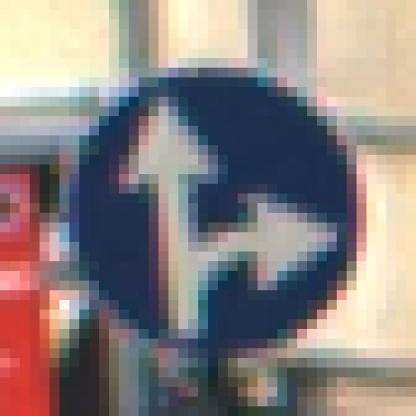Straight or Right: (51, 49, 368, 359)
